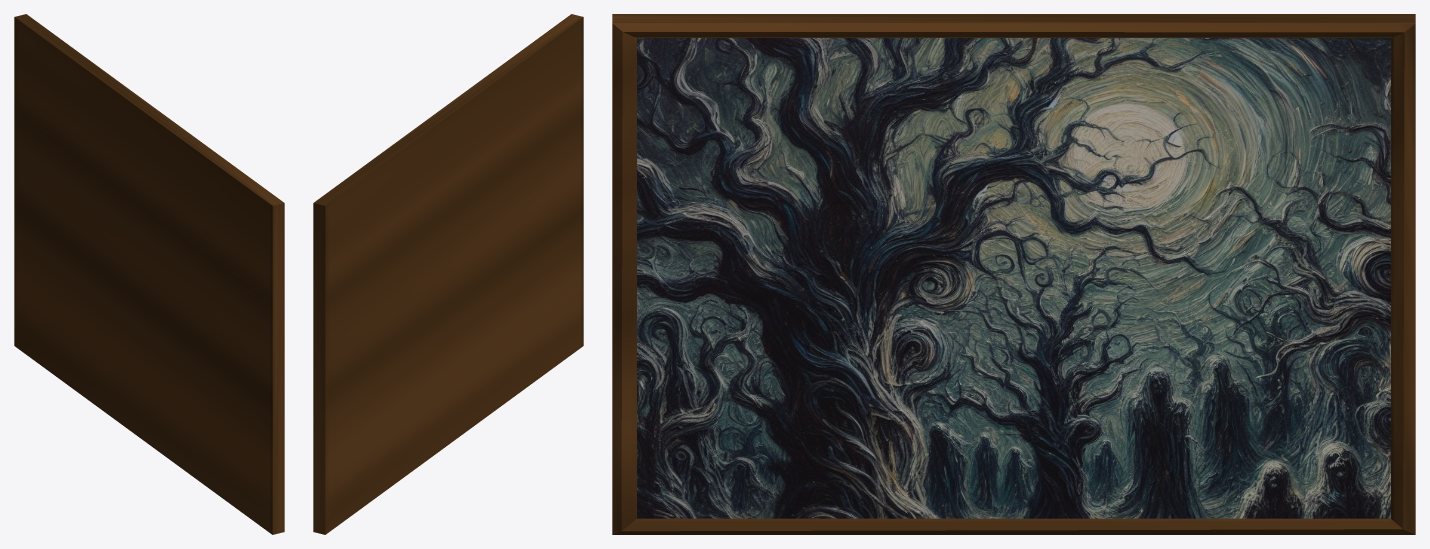
File: Cuadro_ConBosque.fbx
3 renders of one model, left to right at view 1: azimuth 30°, elevation 25°; view 2: azimuth 150°, elevation 25°; view 3: azimuth 270°, elevation 25°, orthographic. The views are drawn at different scales.
Parts seen in each view (by area): view 1: Cube; view 2: Cube; view 3: Cube.001, Cube.
Boxes of the visible parts, x1=… form: Cube: x1=14, y1=14, x2=284, y2=534; Cube: x1=313, y1=14, x2=583, y2=534; Cube.001: x1=637, y1=38, x2=1390, y2=518; Cube: x1=612, y1=14, x2=1415, y2=534.
Bounding box in the file's own units: 8.28 × 175 × 248.
